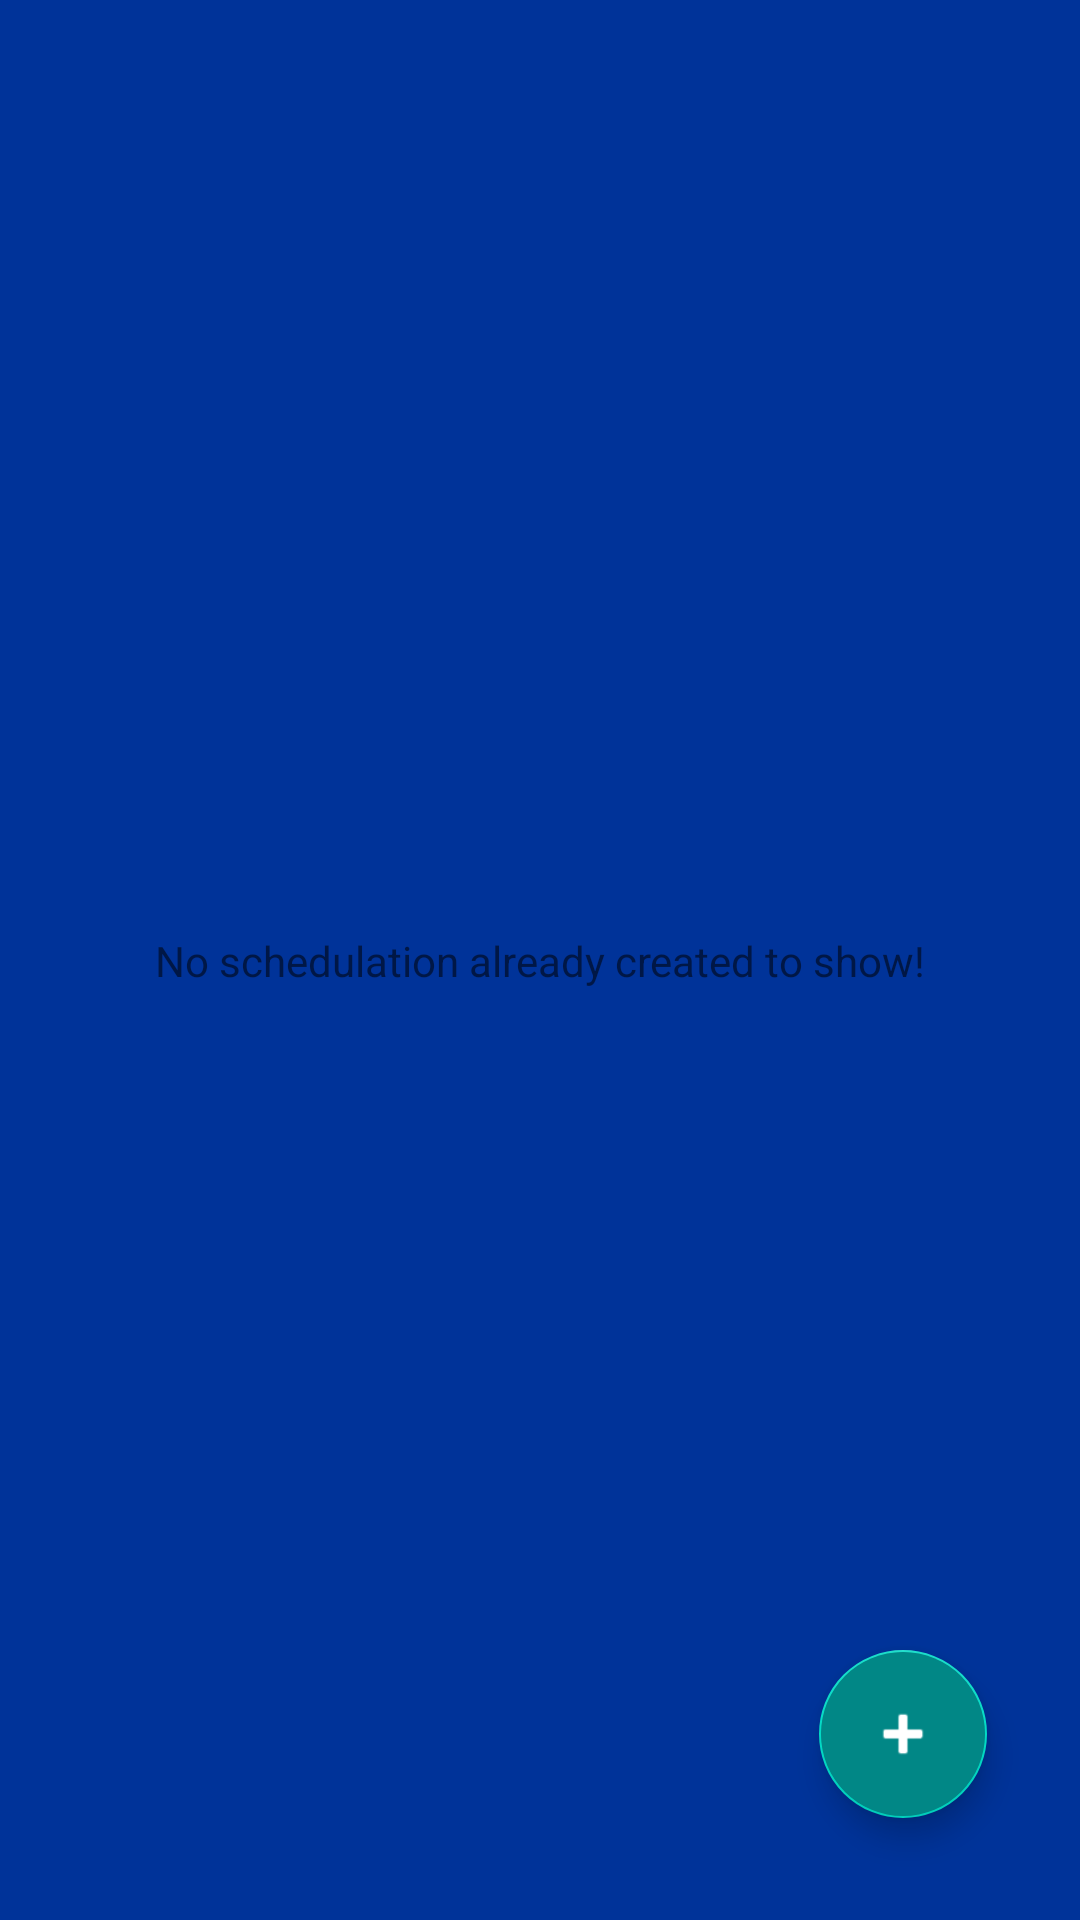

Icons on this 1080x1920 Android screen, each with the point to tap as (x,y):
add: (903,1734)
